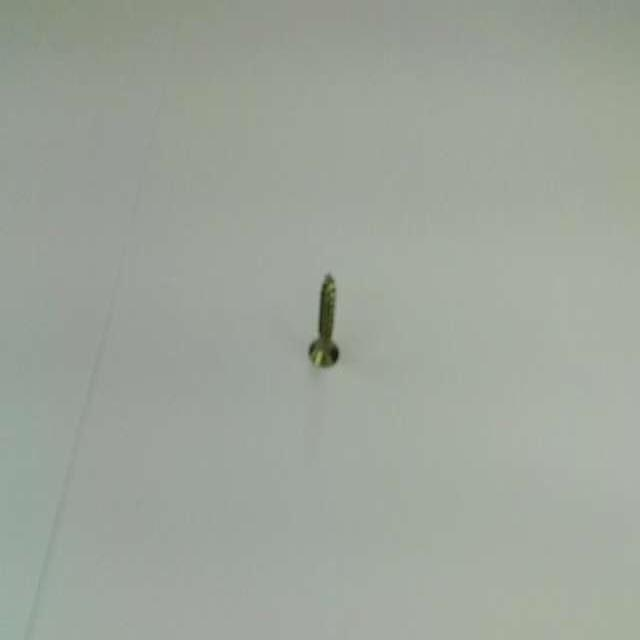Parafuso: (309, 275, 338, 365)
